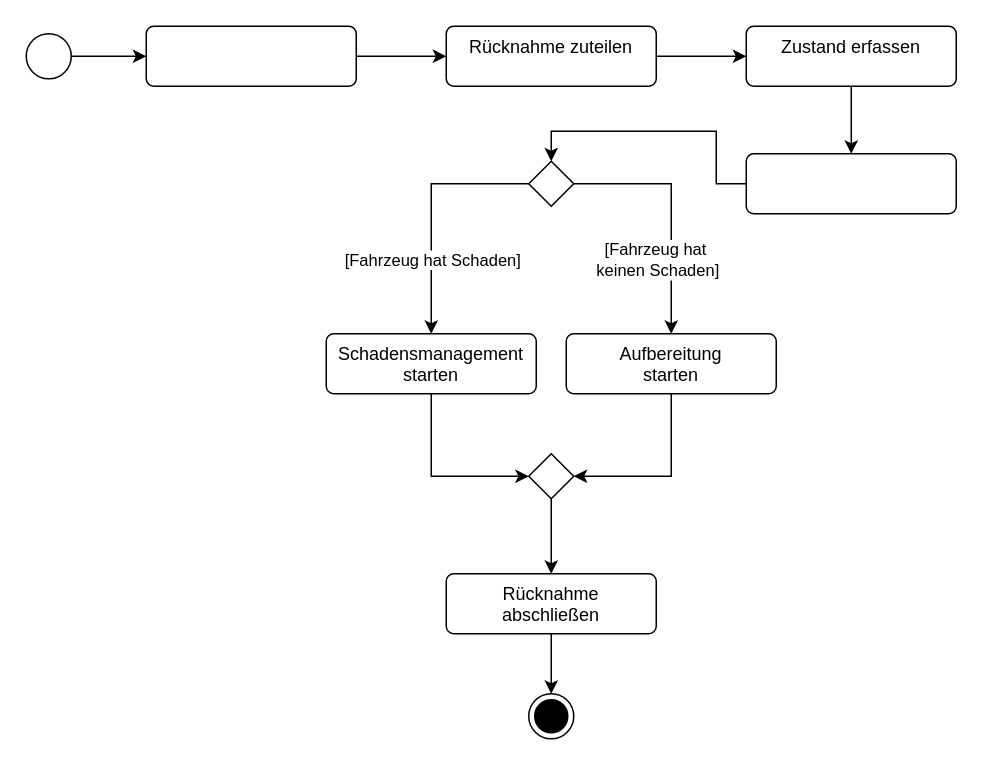
This 983x765 diagram has some shape labels left out. Each missing label, with the centre of its shape:
Datenbankeintrag aktualisieren: point 850,183
Rücknahme starten: point 250,55
